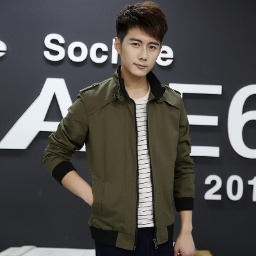face: (115, 2, 168, 79)
